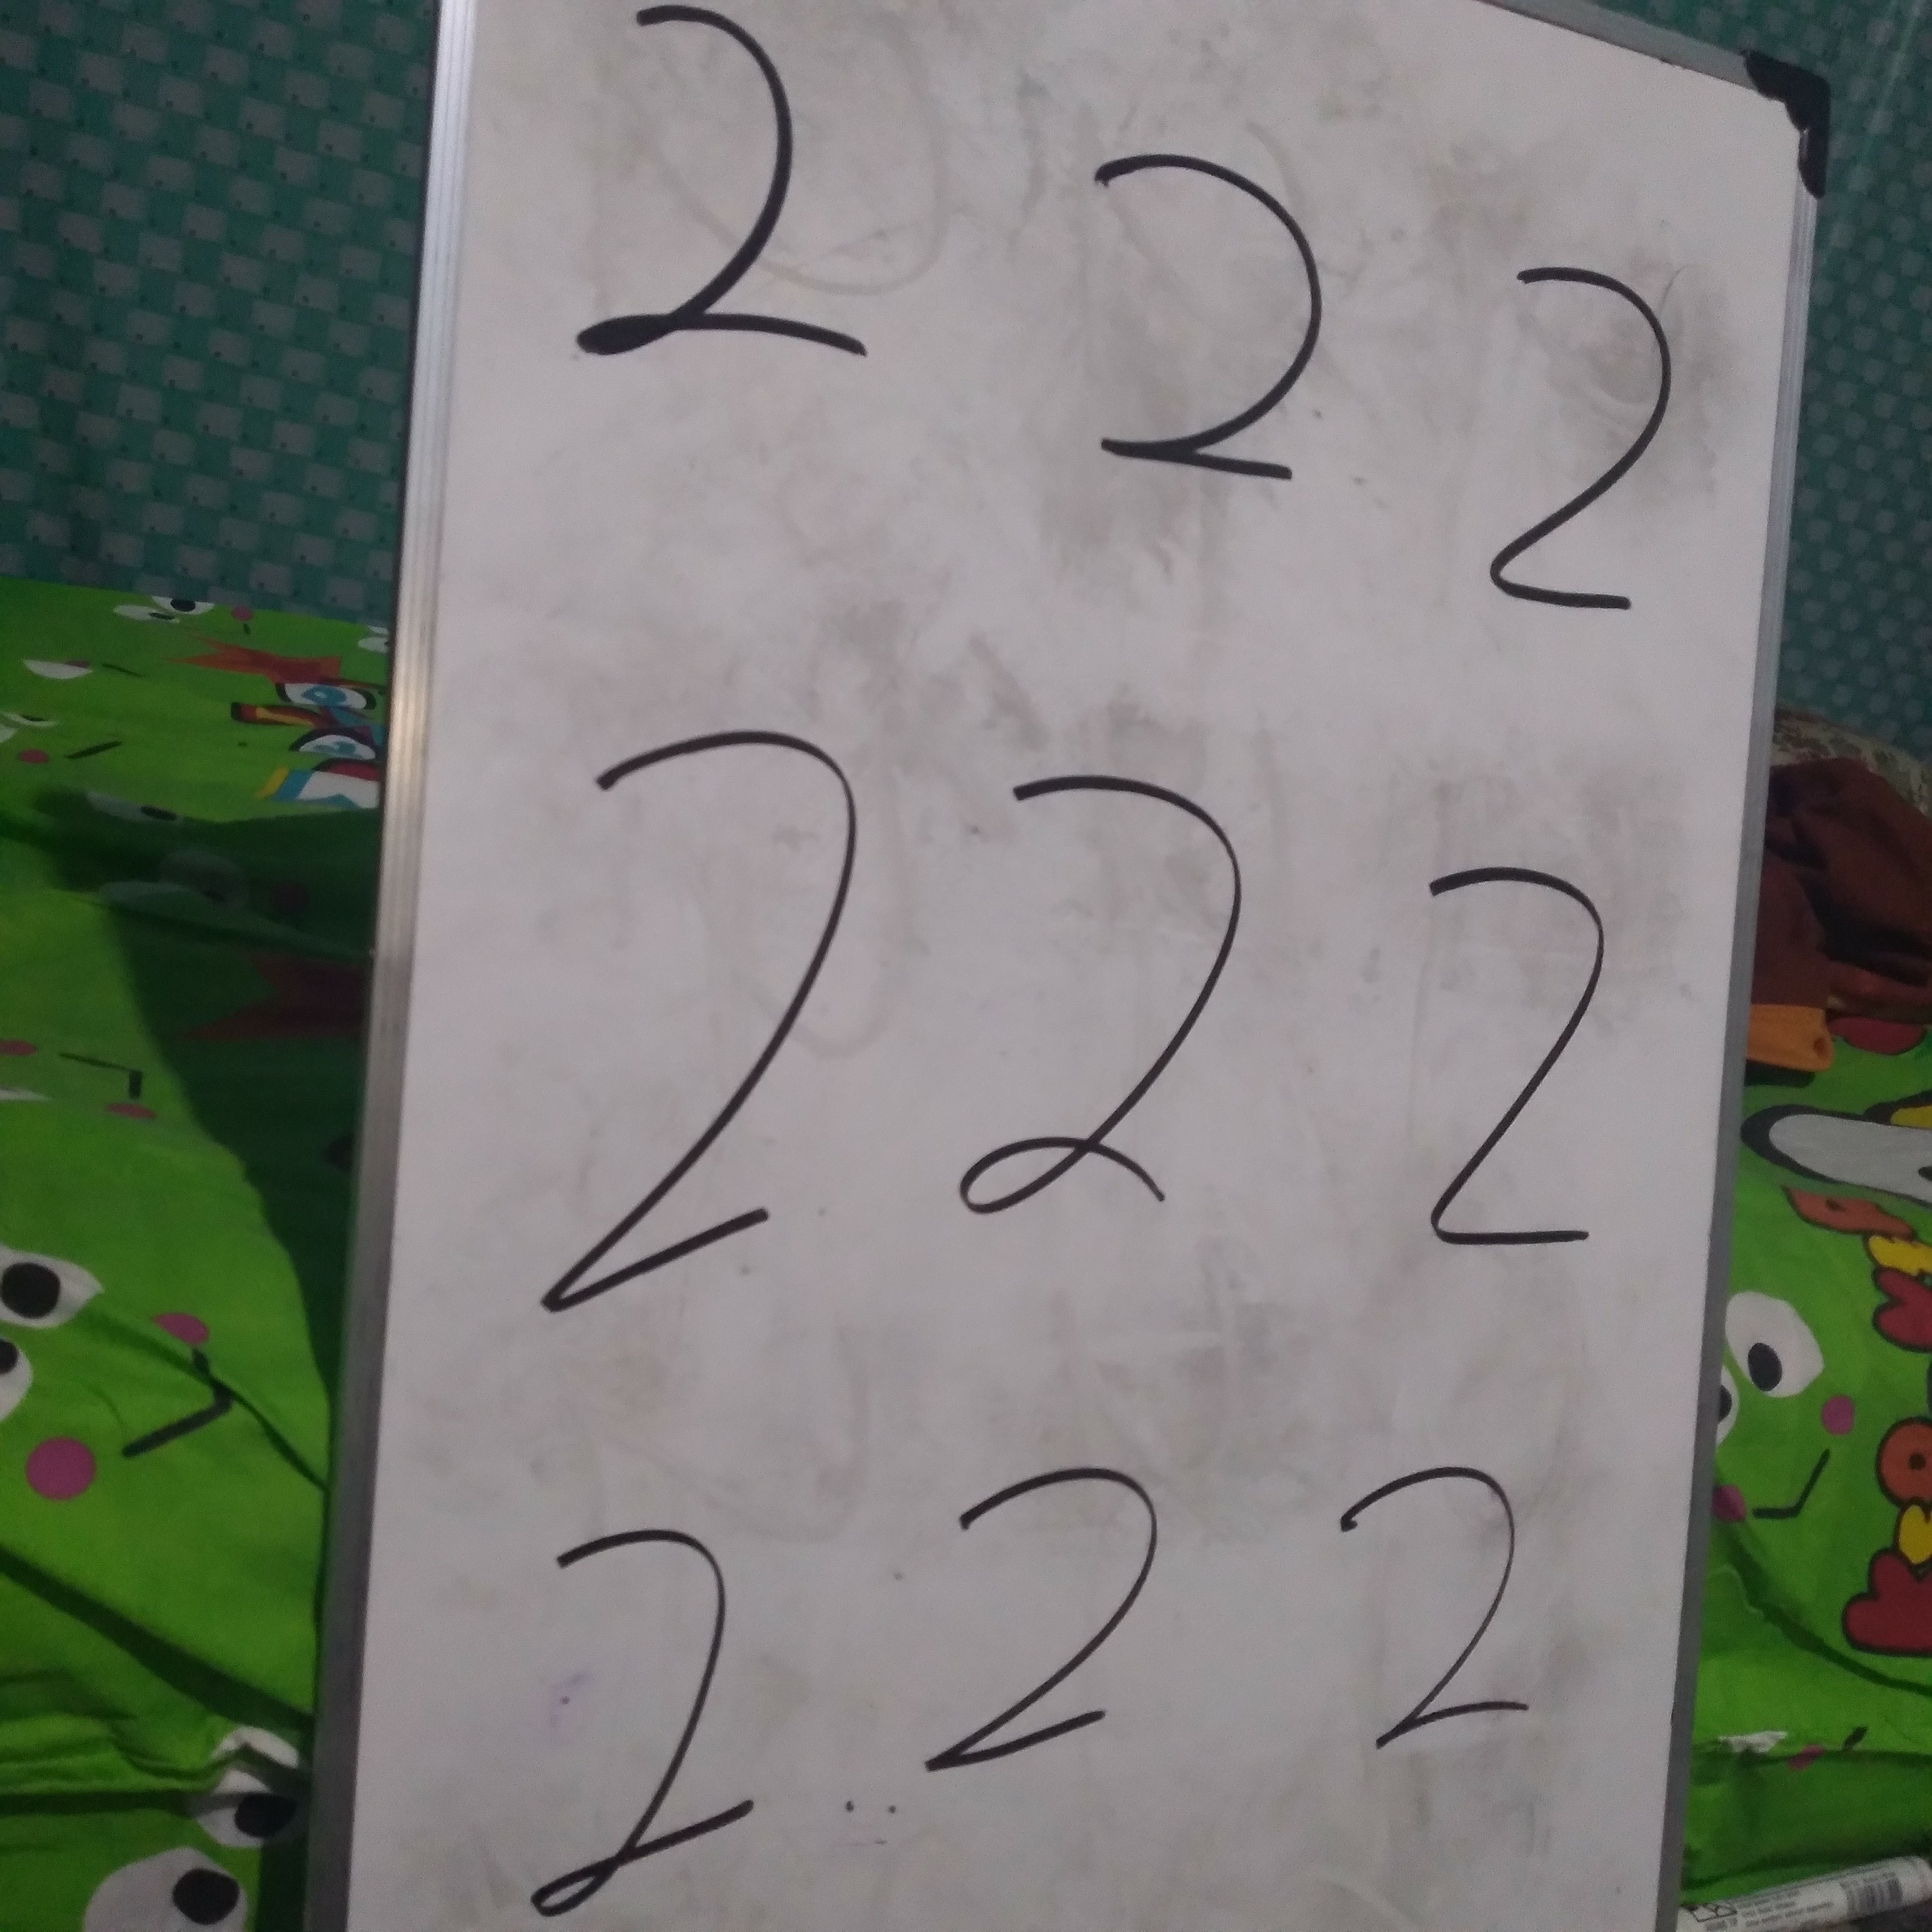num2: (506, 711, 864, 1341), (908, 767, 1276, 1240), (1000, 111, 1381, 551), (1365, 236, 1746, 677), (432, 1488, 813, 1929), (1251, 1397, 1632, 1838), (539, 1, 920, 440), (851, 1413, 1232, 1853), (1300, 831, 1681, 1271)
